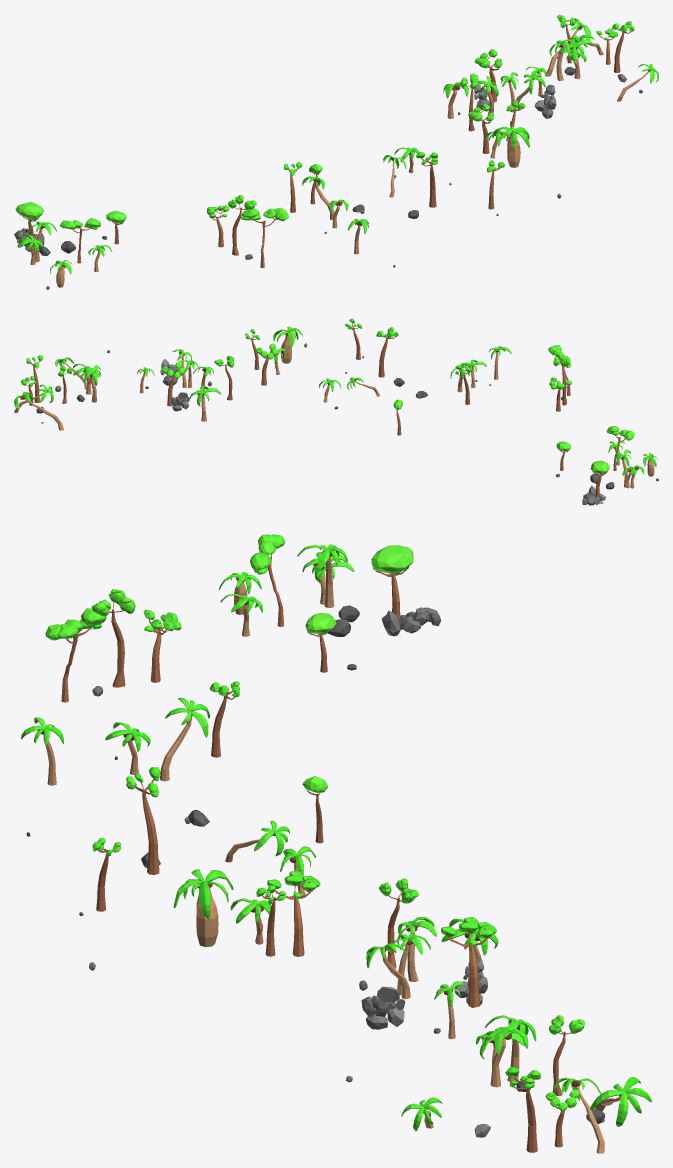
Rendered from flora.glb.
3 renders of one model, top to bottom at view 1: azimuth 30°, elevation 25°; view 2: azimuth 150°, elevation 25°; view 3: azimuth 270°, elevation 25°, orthographic. The views are drawn at different scales.
Visible parts, largest first — view 1: s_palmtree_01.002, s_Tree_03.002, s_Tree_05.002, s_Tree_06.003, s_Tree_01.001, s_Tree_06.002, s_Tree_03.001, s_Big_Rock_02.003, s_Tree_04.003; view 2: s_palmtree_01.002, s_Tree_06.003, s_Tree_04.003, s_palmtree_05.001, s_Tree_05.002, s_Tree_06.002, s_Tree_01.001, s_palmtree_07.004, s_Tree_03.001, s_palmtree_04.001; view 3: s_palmtree_01.002, s_Big_Rock_02.003, s_Tree_06.003, s_Tree_03.002, s_Tree_01.001, s_Tree_04.003, s_Tree_05.002, s_Tree_06.002, s_palmtree_07.004, s_Tree_03.001, s_palmtree_06.002, s_Big_Rock_03.002 (+3 smaller).
Boxes of the visible parts, x1,y1,x2,y2 form: s_palmtree_01.002: (492, 126, 529, 167); s_Tree_03.002: (241, 207, 288, 267); s_Tree_05.002: (228, 195, 256, 255); s_Tree_06.003: (474, 49, 502, 102); s_Tree_01.001: (15, 201, 43, 238); s_Tree_06.002: (468, 103, 494, 153); s_Tree_03.001: (59, 217, 100, 263); s_Big_Rock_02.003: (534, 84, 556, 118); s_Tree_04.003: (416, 152, 438, 207); s_palmtree_01.002: (273, 326, 303, 363); s_Tree_06.003: (161, 362, 184, 406); s_Tree_04.003: (376, 327, 398, 377); s_palmtree_05.001: (190, 386, 220, 421); s_Tree_05.002: (553, 351, 570, 405); s_Tree_06.002: (255, 343, 277, 385); s_Tree_01.001: (590, 460, 609, 497); s_palmtree_07.004: (14, 392, 64, 430); s_Tree_03.001: (606, 426, 634, 470); s_palmtree_04.001: (84, 365, 100, 402); s_palmtree_01.002: (173, 869, 233, 947); s_Big_Rock_02.003: (361, 986, 405, 1029); s_Tree_06.003: (441, 917, 496, 1007); s_Tree_03.002: (45, 608, 106, 702); s_Tree_01.001: (371, 545, 413, 619); s_Tree_04.003: (126, 767, 160, 874); s_Tree_05.002: (91, 589, 135, 687); s_Tree_06.002: (267, 870, 320, 956); s_palmtree_07.004: (590, 1077, 651, 1126); s_Tree_03.001: (250, 534, 285, 626); s_palmtree_06.002: (160, 697, 210, 781); s_Big_Rock_03.002: (381, 607, 440, 636).
Bounding box in the file's own units: 57.8 × 7.6 × 27.88.
Materials: 1 (1 with a texture image).
